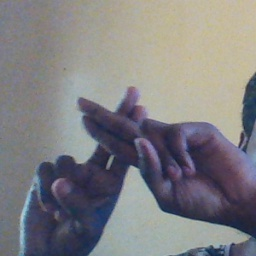F: (43, 81, 205, 210)
